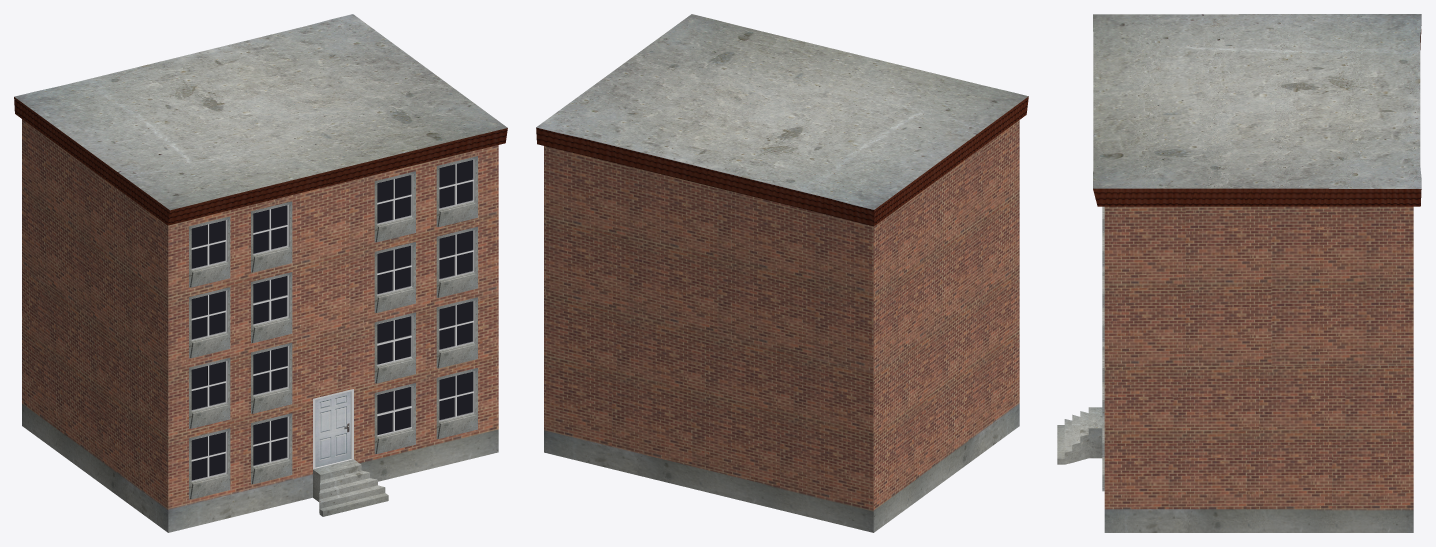
Rendered from apartment_bldg1b.fbx.
3 renders of one model, left to right at view 1: azimuth 30°, elevation 25°; view 2: azimuth 150°, elevation 25°; view 3: azimuth 270°, elevation 25°, orthographic. The views are drawn at different scales.
Visible parts, largest first — view 1: apartmentBuilding_geo; view 2: apartmentBuilding_geo; view 3: apartmentBuilding_geo.
Part boxes in pixels (x1,y1,x2,y2): apartmentBuilding_geo: (14, 14, 507, 532); apartmentBuilding_geo: (536, 14, 1028, 532); apartmentBuilding_geo: (1057, 14, 1421, 532).
Bounding box in the file's own units: 16.45 × 15.19 × 14.47.
